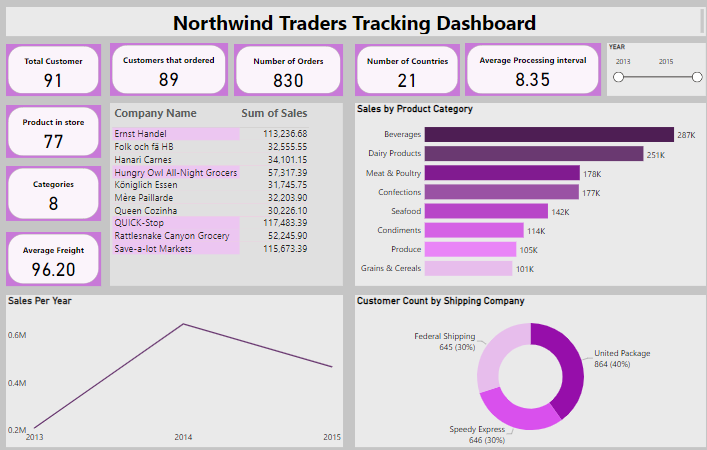

What the dashboard file says about the page in this screenshot:
{"tool":"powerbi","page":{"name":"DASHBOARD","canvas":[1740,1100],"ordinal":0},"visuals":[{"type":"cardVisual","fields":{"Data":["Count(customers.CustomerID)"]},"box":[19.5,107.3,231.7,126.8],"z":0},{"type":"cardVisual","fields":{"Data":["Count(Table with all order info.CustomerID)"]},"box":[273.2,104.9,287.8,129.3],"z":1000},{"type":"cardVisual","fields":{"Data":["Count(products.ProductID)"]},"box":[19.5,256.1,231.7,129.3],"z":2000},{"type":"cardVisual","fields":{"Data":["Count(Table with all order info.OrderID)"]},"box":[575.6,107.3,265.9,126.8],"z":3000},{"type":"cardVisual","fields":{"Data":["Count(Table with all order info.customers.Country)"]},"box":[870.7,107.3,256.1,126.8],"z":4000},{"type":"cardVisual","fields":{"Data":["Avg(Table with all order info.Freight)"]},"box":[19.5,565.9,231.7,131.7],"z":5000},{"type":"cardVisual","fields":{"Data":["Count(Table with all order info.CategoryID)"]},"box":[19.5,404.9,231.7,134.1],"z":6000},{"type":"cardVisual","fields":{"Data":["Avg(Table with all order info.Processing interval)"]},"box":[1139,104.9,331.7,129.3],"z":7000},{"type":"donutChart","title":"Customer Count by Shipping Company","fields":{"Category":["Table with all order info.shippers.companyName"],"Y":["CountNonNull(Table with all order info.CustomerID)"]},"box":[870.7,719.5,856.1,370.7],"z":9000},{"type":"clusteredBarChart","title":"Sales by Product Category","fields":{"Category":["Table with all order info.CategoryName"],"Y":["Sum(Table with all order info.Sales)"]},"box":[870.7,251.2,856.1,446.3],"z":10000},{"type":"slicer","title":"YEAR","fields":{"Values":["Table with all order info.ShippedDate.Variation.Date Hierarchy.Year"]},"box":[1485.4,104.9,241.5,129.3],"z":12000},{"type":"textbox","box":[19.5,17.1,1707.3,70.7],"z":13000},{"type":"tableEx","fields":{"Values":["customers.CompanyName","Sum(Table with all order info.Sales)"]},"box":[273.2,251.2,568.3,446.3],"z":13001},{"type":"lineChart","title":"Sales Per Year","fields":{"Y":["Sum(Table with all order info.Sales)"],"Category":["Table with all order info.ShippedDate.Variation.Date Hierarchy.Year"]},"box":[19.5,719.5,822,370.7],"z":13002}]}

Visuals, with their boxes in screenshot pixels (x1, y1, x2, y2), scaled from the page's 1740x1100 canvas onto the 707x450 screenshot:
cardVisual - Count(customers.CustomerID): (8,44,102,96)
cardVisual - Count(Table with all order info.CustomerID): (111,43,228,96)
cardVisual - Count(products.ProductID): (8,105,102,158)
cardVisual - Count(Table with all order info.OrderID): (234,44,342,96)
cardVisual - Count(Table with all order info.customers.Country): (354,44,458,96)
cardVisual - Avg(Table with all order info.Freight): (8,232,102,285)
cardVisual - Count(Table with all order info.CategoryID): (8,166,102,220)
cardVisual - Avg(Table with all order info.Processing interval): (463,43,598,96)
"Customer Count by Shipping Company" donutChart: (354,294,702,446)
"Sales by Product Category" clusteredBarChart: (354,103,702,285)
"YEAR" slicer: (604,43,702,96)
textbox: (8,7,702,36)
tableEx - customers.CompanyName x Sum(Table with all order info.Sales): (111,103,342,285)
"Sales Per Year" lineChart: (8,294,342,446)
